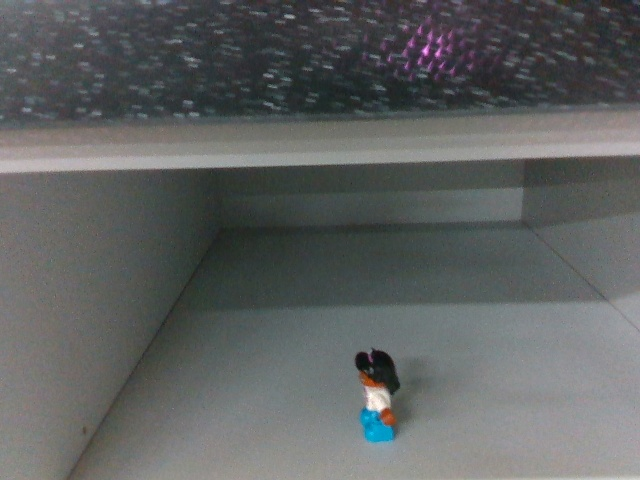people: (350, 348, 400, 449)
